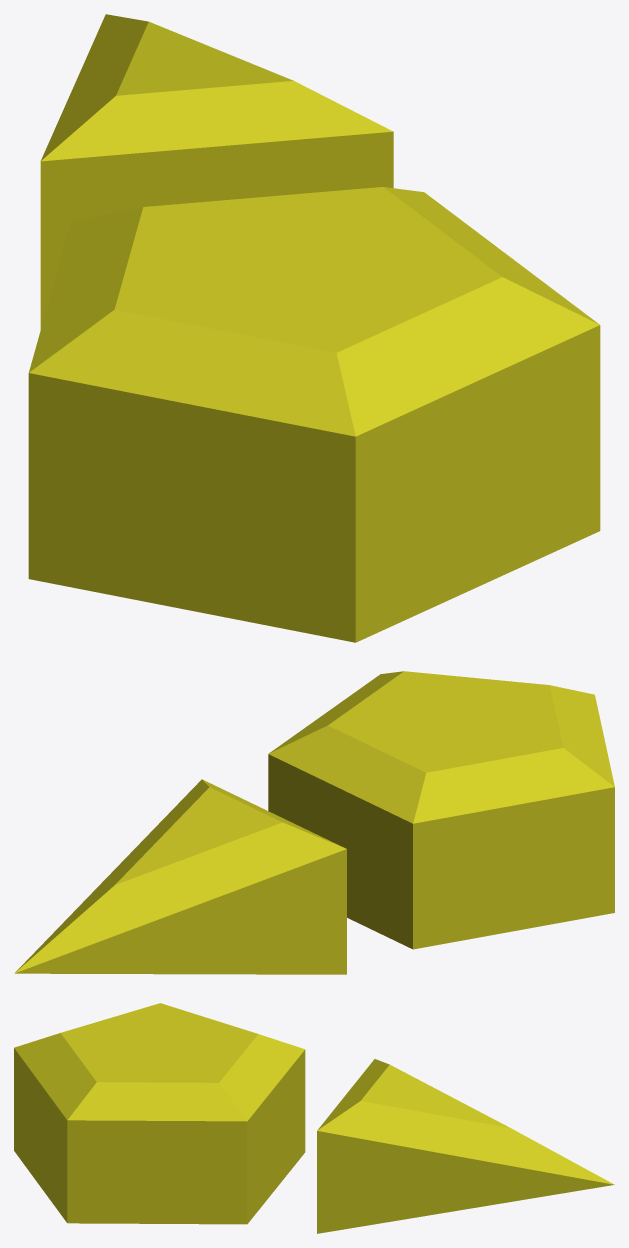
Rendered from star_cover.fbx.
3 views of the same model, one above another, from view 1: azimuth 30°, elevation 25°; view 2: azimuth 150°, elevation 25°; view 3: azimuth 270°, elevation 25° (orthographic). The views are drawn at different scales.
Parts seen in each view (by area): view 1: Circle, Circle.001; view 2: Circle, Circle.001; view 3: Circle, Circle.001.
Boxes of the visible parts, <box> form: Circle: <box>28,187,600,642</box>; Circle.001: <box>40,14,393,329</box>; Circle: <box>268,671,614,949</box>; Circle.001: <box>14,779,346,974</box>; Circle: <box>14,1003,305,1224</box>; Circle.001: <box>317,1059,614,1233</box>.
Size of the model in its own units: 75.13 by 33.68 by 147.
